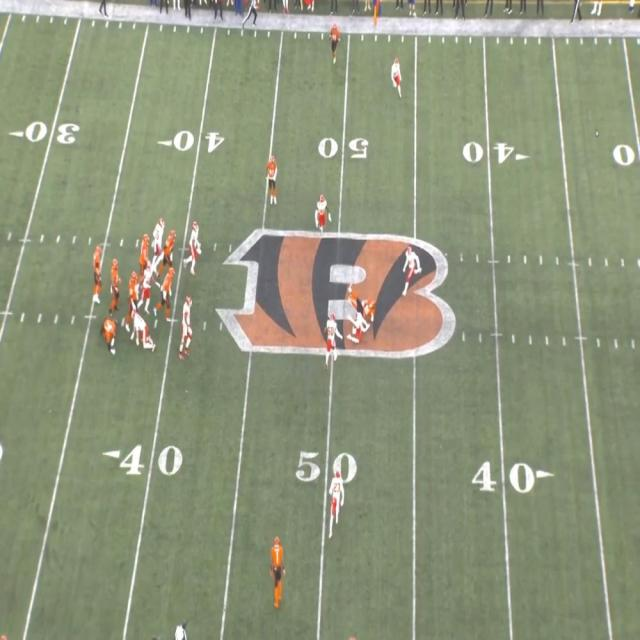db: (328, 474, 342, 524), (318, 192, 329, 230), (393, 57, 404, 91), (408, 249, 417, 285)
lb: (328, 313, 338, 360), (354, 311, 363, 348)
skill: (348, 285, 376, 321), (272, 536, 286, 587), (328, 23, 338, 62), (269, 156, 278, 198)
